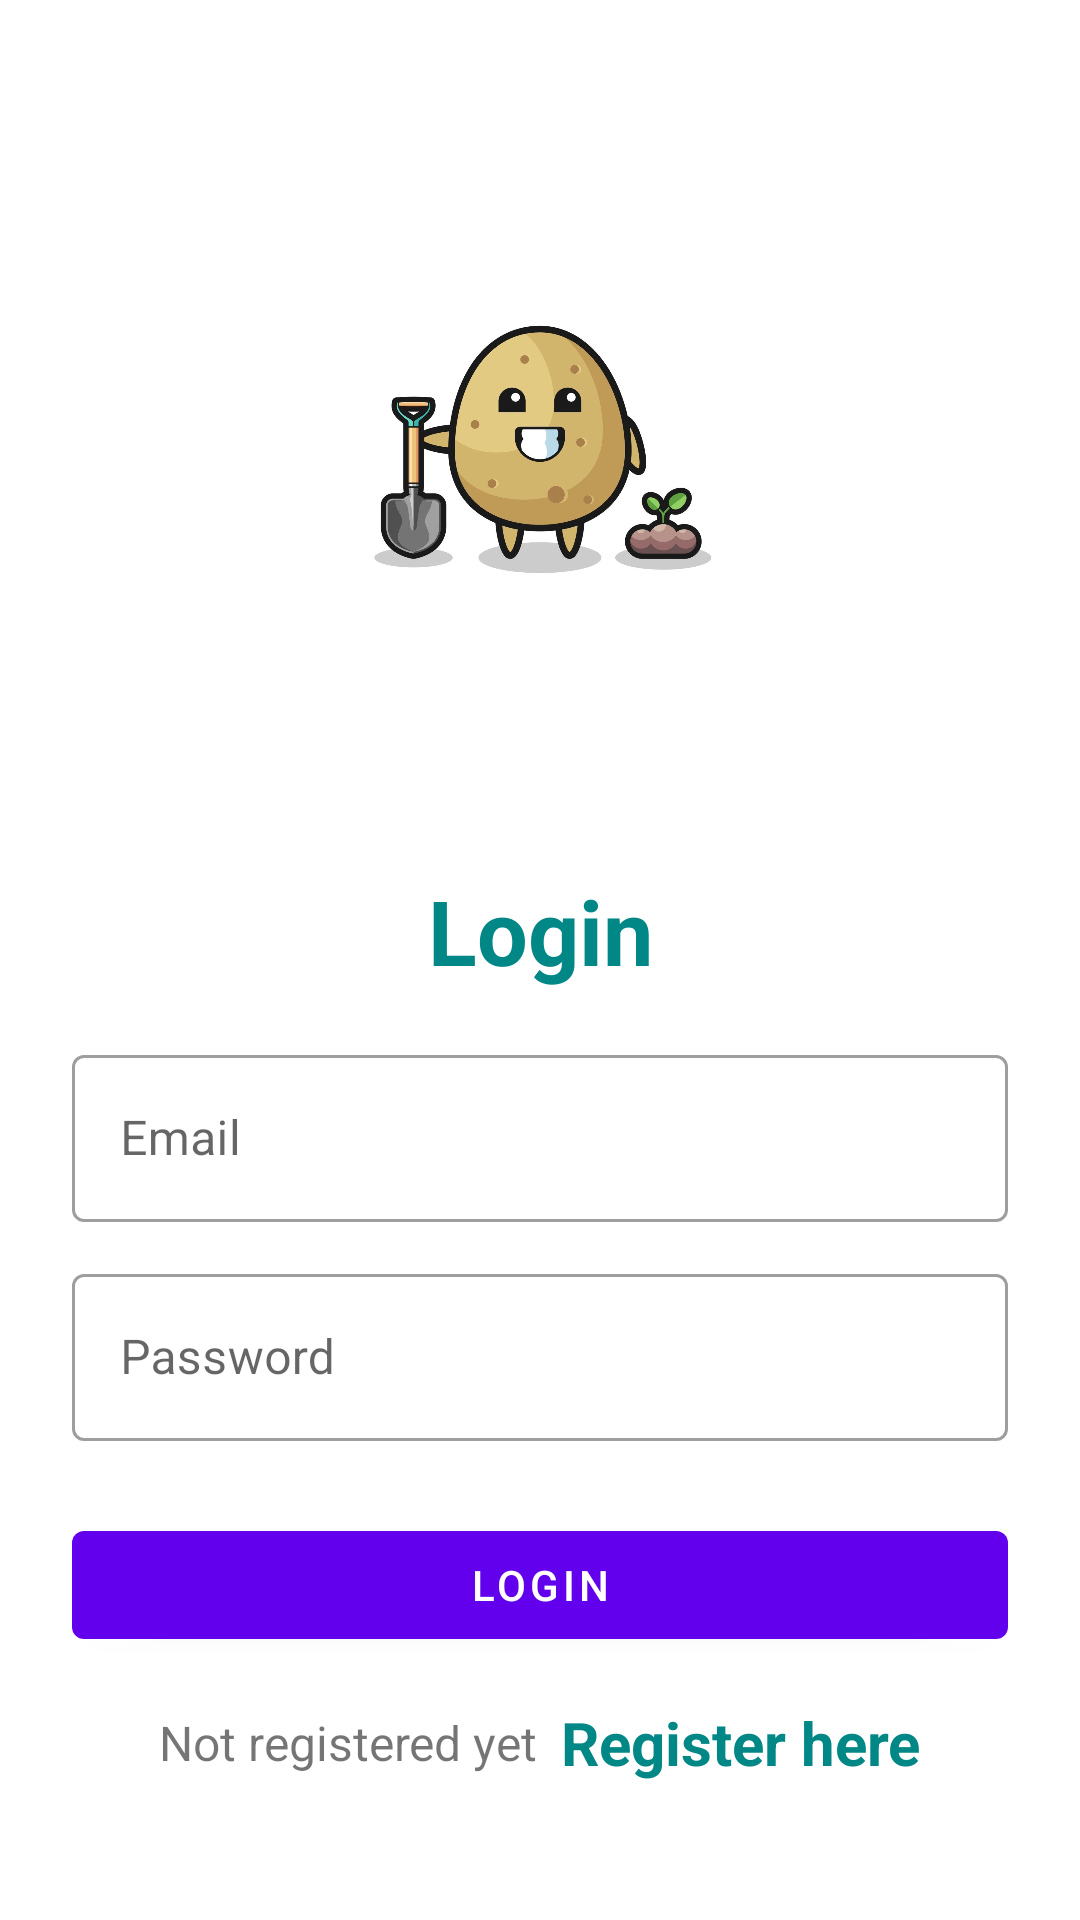

Named icons in this screenshot (1080px x 1920px) and their bounding boxes, (x1, y1, x2, y2):
potatoimg: (374, 326, 711, 573)
